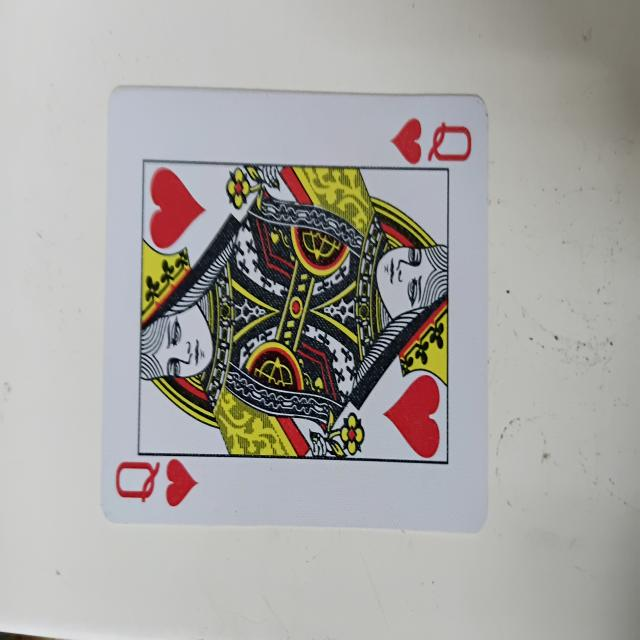QH: (110, 88, 487, 531)
